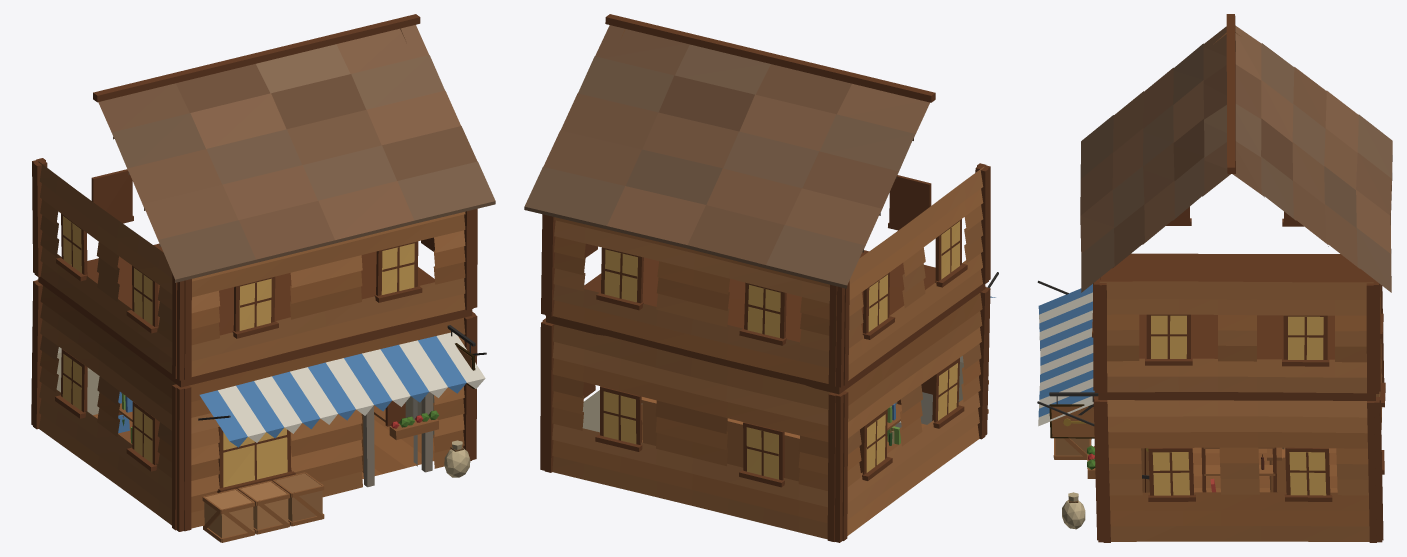
File: general-store.glb
The picture shows the model from 3 angles, left to right: view 1: azimuth 30°, elevation 25°; view 2: azimuth 150°, elevation 25°; view 3: azimuth 270°, elevation 25°; orthographic projection. The views are drawn at different scales.
Visible parts, largest first — view 1: buildings/general-store; view 2: buildings/general-store; view 3: buildings/general-store.
Part boxes in pixels (left/top/right/bottom): buildings/general-store: left=31, top=14, right=495, bottom=542; buildings/general-store: left=524, top=14, right=998, bottom=542; buildings/general-store: left=1037, top=14, right=1392, bottom=542.
Bounding box in the file's own units: 6.08 × 7.05 × 5.96.
